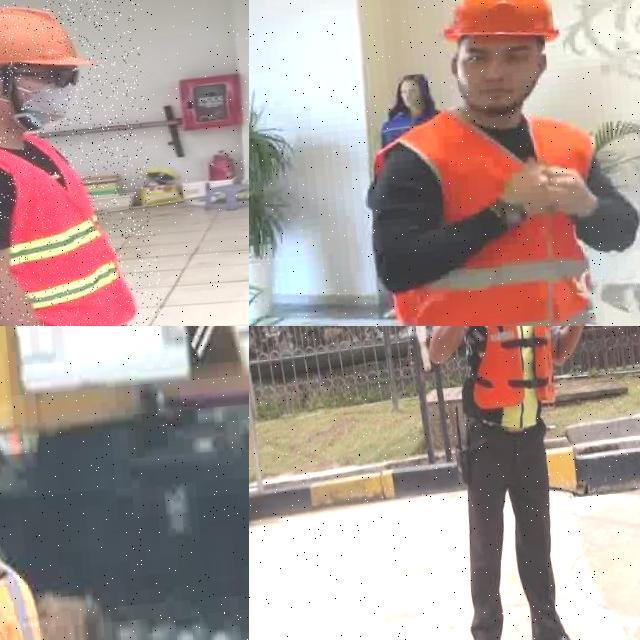boots: (526, 620, 591, 640)
helmet: (0, 0, 85, 79), (438, 0, 563, 49)
vest: (368, 100, 621, 326), (0, 129, 148, 326), (451, 326, 565, 440)
